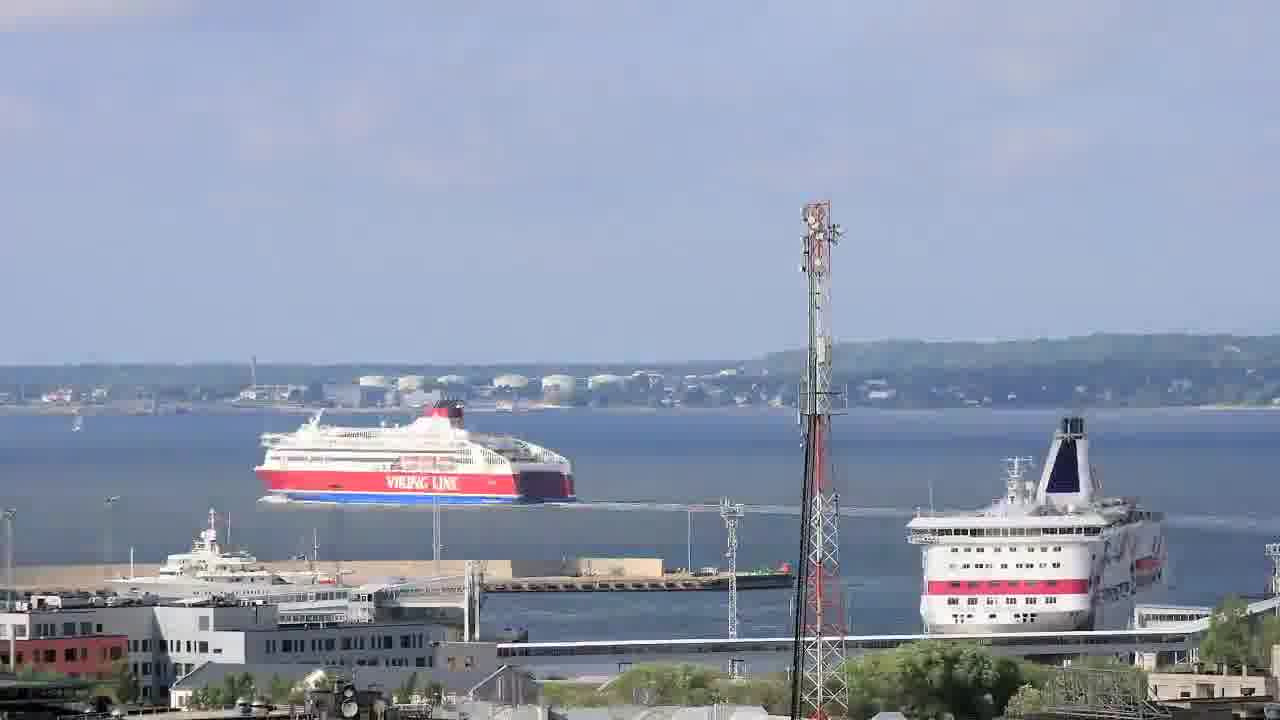type-2: (52, 389, 107, 450)
type-3: (889, 419, 1189, 638), (242, 384, 583, 504), (89, 518, 402, 620)
